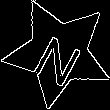N_NE: (29, 20, 88, 85)
